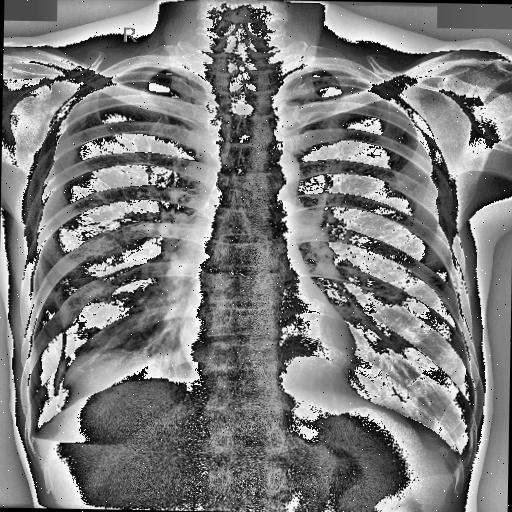10- Pleural effusion: (27, 428, 147, 472), (454, 446, 470, 472), (29, 426, 42, 446)
11- Pleural thickening: (454, 446, 470, 472), (29, 426, 42, 446)
12- Pneumothorax: (28, 64, 210, 434), (49, 64, 205, 164), (27, 267, 98, 447), (20, 251, 70, 441)
7- Lung Opacity: (62, 346, 172, 436)
8- Nodule-Mass: (60, 350, 164, 410)
